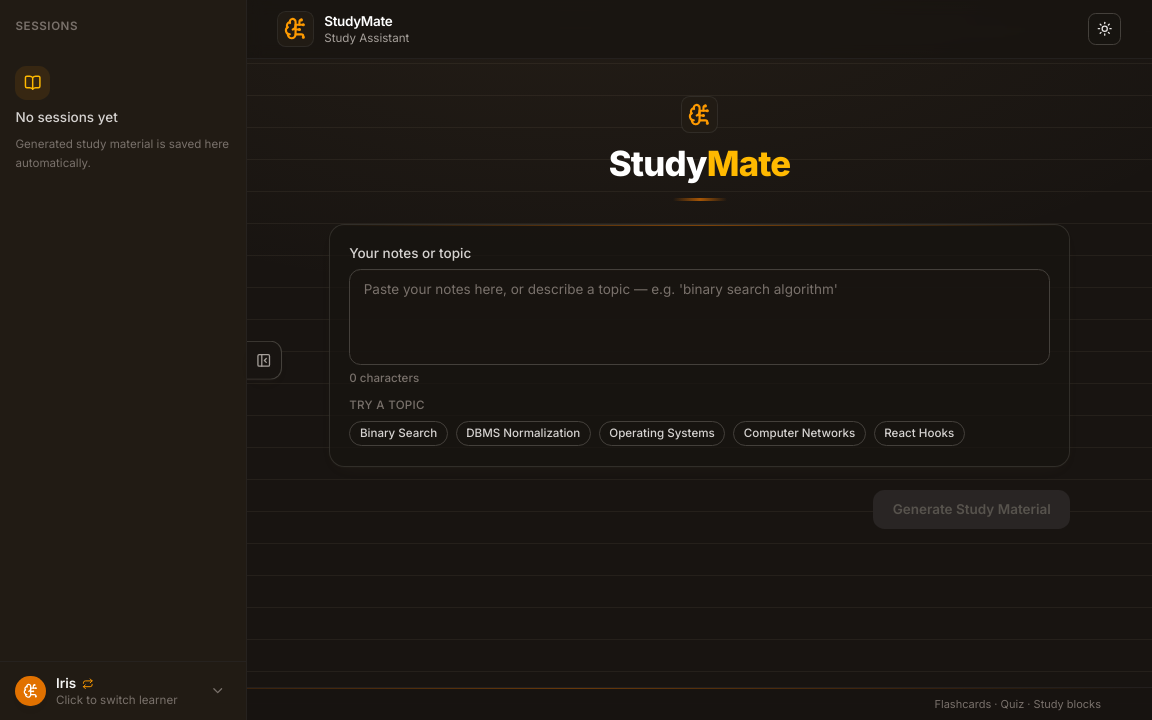
App generation flow › does not render any study material when the response body is unusable
This screenshot has width=1152, height=720.
Step 1. Replace the text in the text box labelled "Your notes or topic" with "React" → (700, 317), box [349,269,1050,365]
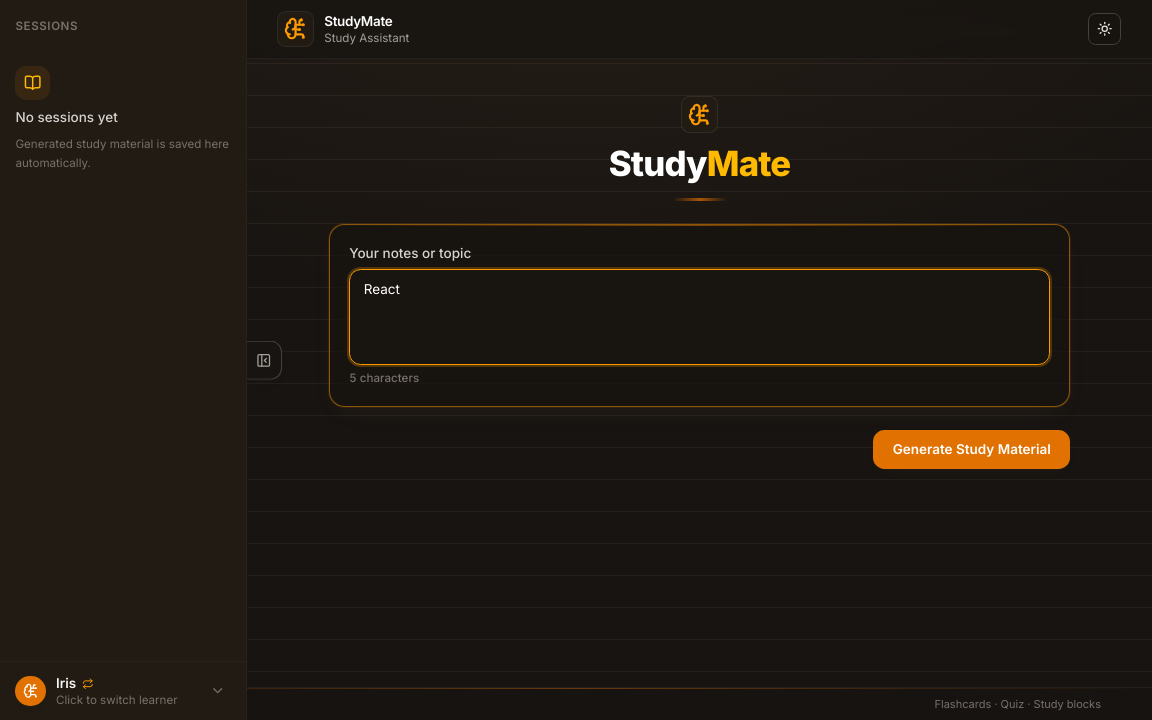
Step 2. Click the button "Generate Study Material" → (972, 449), box [873,430,1070,469]
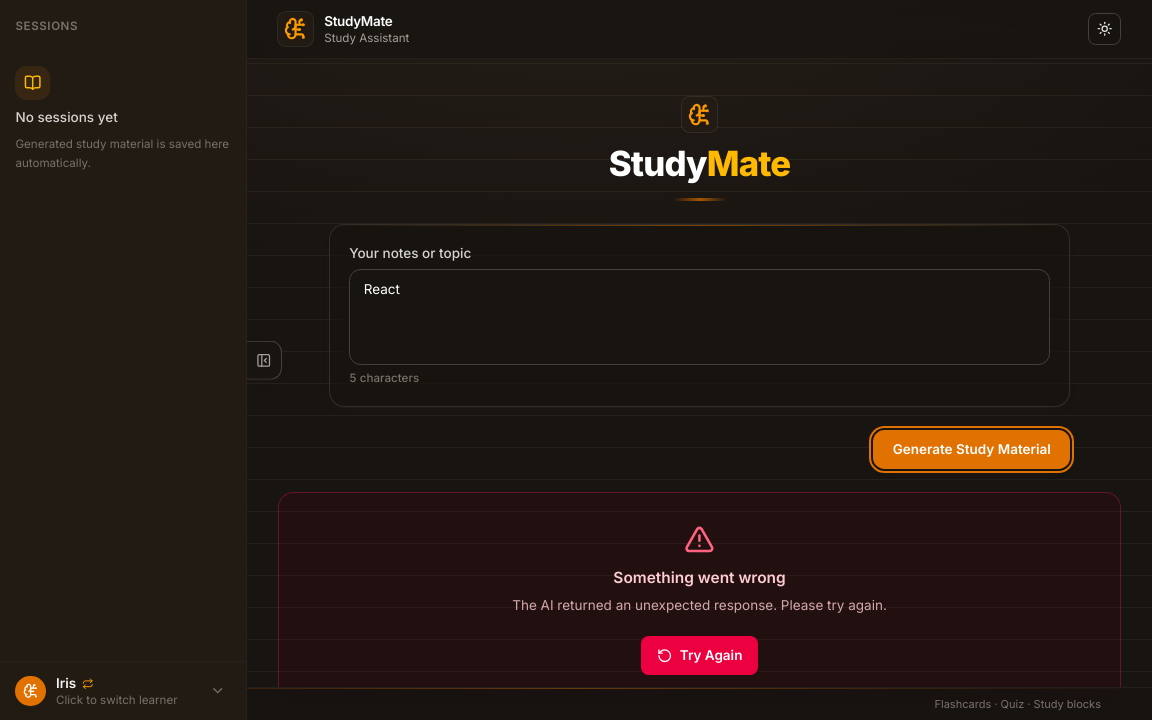
Now the heading "Something went wrong" is shown, box [613,568,786,587]
Now the text "The AI returned an unexpected response. Please try again." is shown, box [483,595,916,617]
